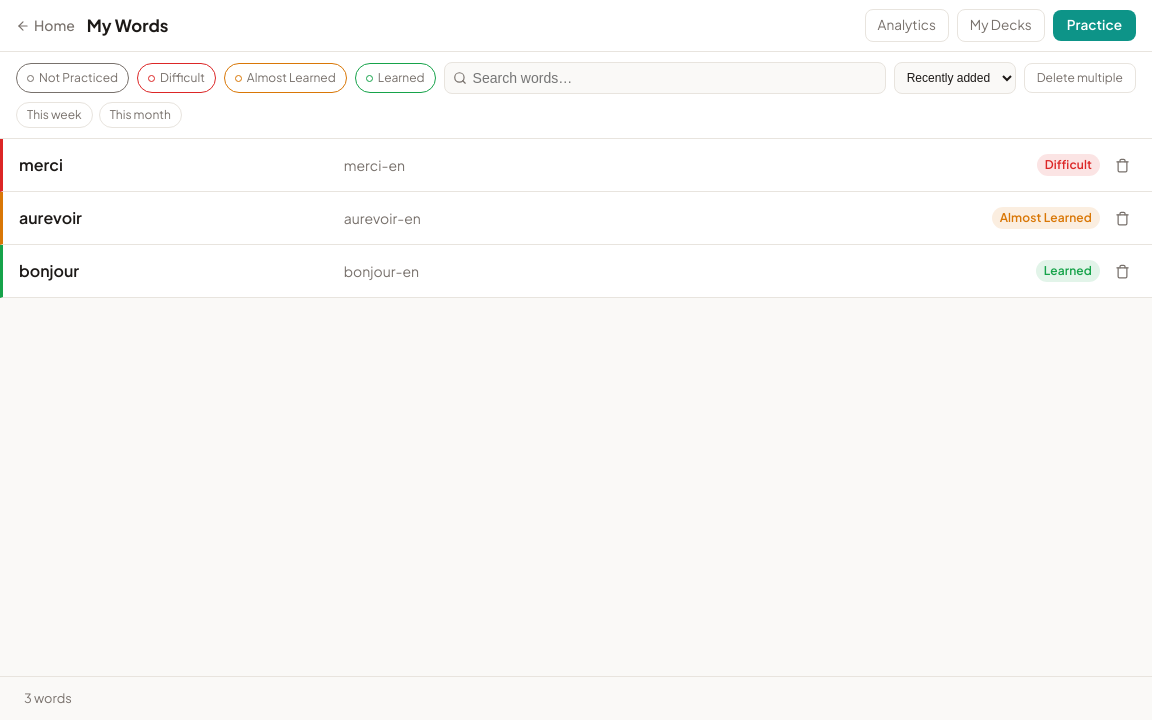
Flashcards — bulk selection › counts the selected words
Expected: the text "bonjour" is shown, [19,260,79,281]
Click the button "Delete multiple" at (1080, 78), box [1024,63,1136,93]
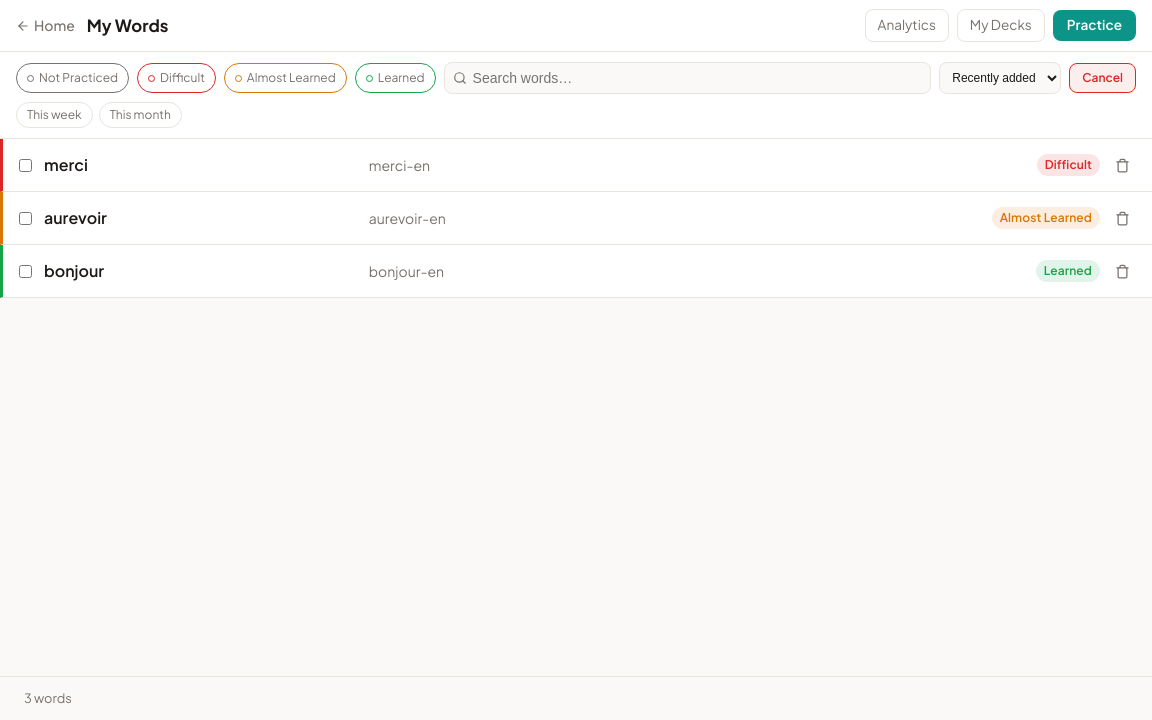
Click the checkbox named "Select bonjour" at (26, 271), box [19,264,32,278]
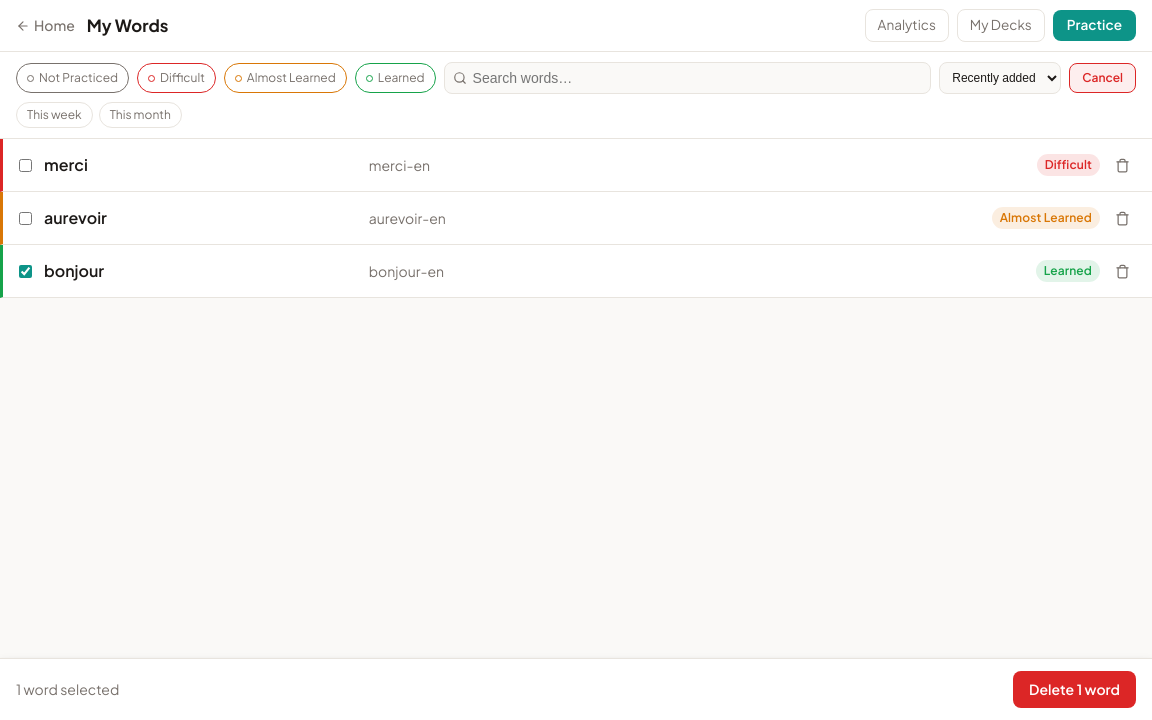
Result: the text "1 word selected" is shown at [16,679,119,700]
